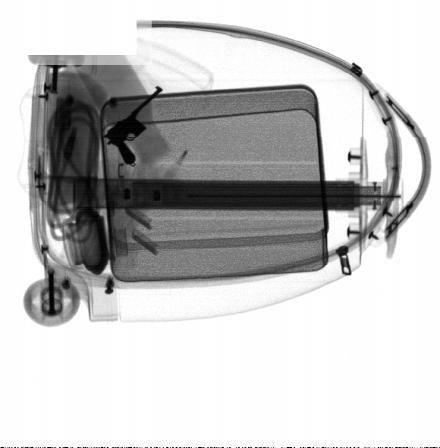Gun: (100, 85, 164, 164)
